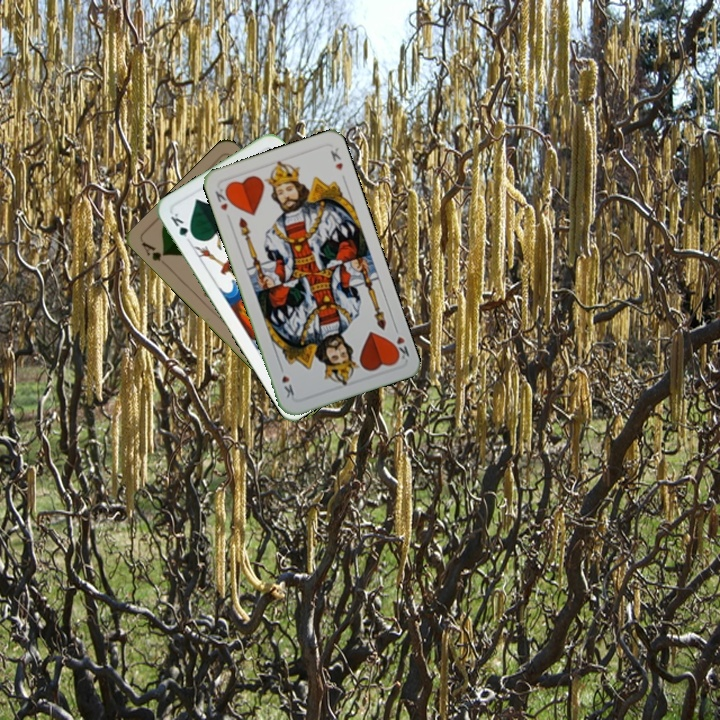GA: (138, 238, 169, 264)
GK: (166, 209, 198, 246)
HK: (387, 322, 412, 363), (211, 183, 234, 214)
